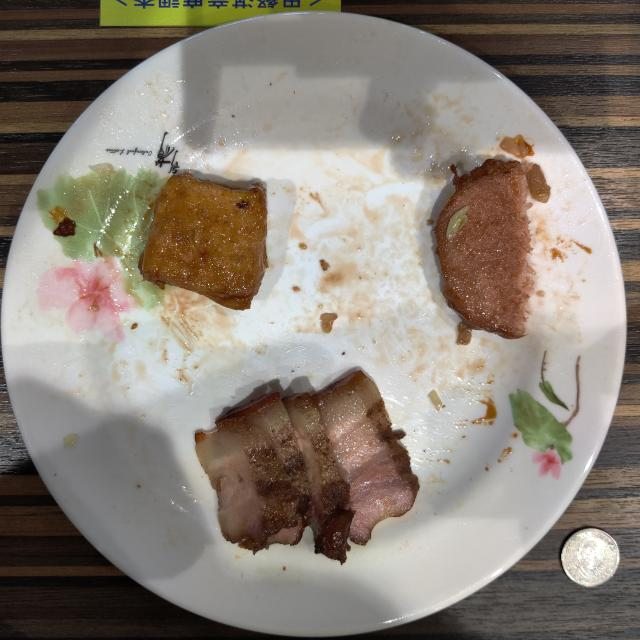Spam: (434, 159, 534, 339)
coin: (561, 529, 620, 586)
creamy tofu: (139, 172, 268, 310)
red grilled pork: (195, 370, 419, 564)
